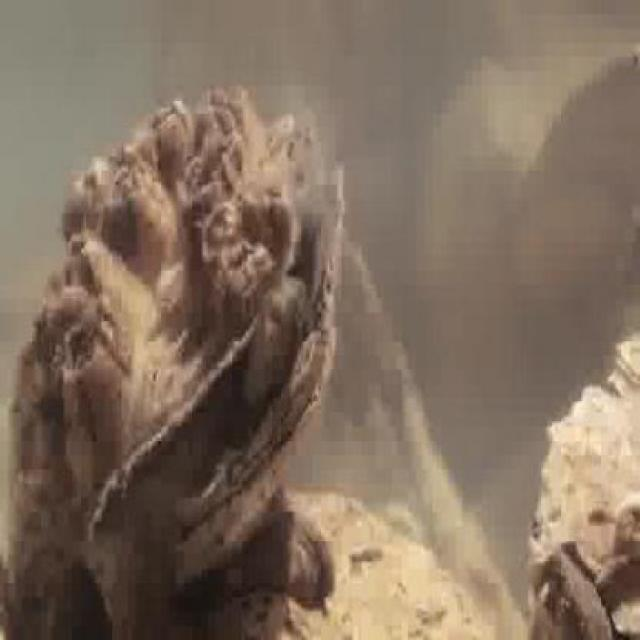Oyster- Indeterminate: (217, 491, 494, 640), (535, 386, 640, 628), (197, 512, 332, 615)
Oyster-Open: (5, 91, 343, 608), (531, 556, 614, 640)
